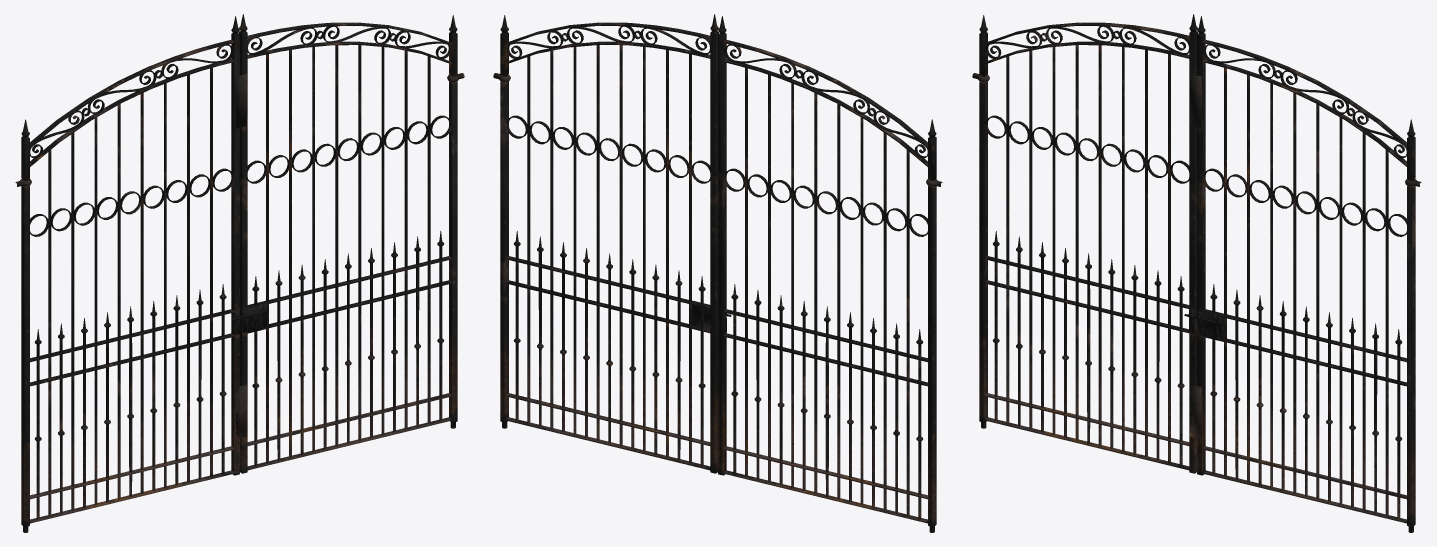
File: large_iron_gate.glb
The picture shows the model from 3 angles, left to right: view 1: azimuth 30°, elevation 25°; view 2: azimuth 150°, elevation 25°; view 3: azimuth 330°, elevation 25°; orthographic projection.
Parts seen in each view (by area): view 1: large_iron_gate_right_door, large_iron_gate_left_door; view 2: large_iron_gate_left_door, large_iron_gate_right_door; view 3: large_iron_gate_right_door, large_iron_gate_left_door.
Part boxes in pixels (x1,y1,x2,y2): large_iron_gate_right_door: [235, 14, 457, 473]; large_iron_gate_left_door: [21, 16, 241, 532]; large_iron_gate_left_door: [718, 16, 936, 532]; large_iron_gate_right_door: [500, 14, 718, 473]; large_iron_gate_right_door: [1190, 16, 1415, 532]; large_iron_gate_left_door: [979, 14, 1197, 473].
Bounding box in the file's own units: 2.95 × 2.93 × 0.0973.
1 material, 1 textured.
